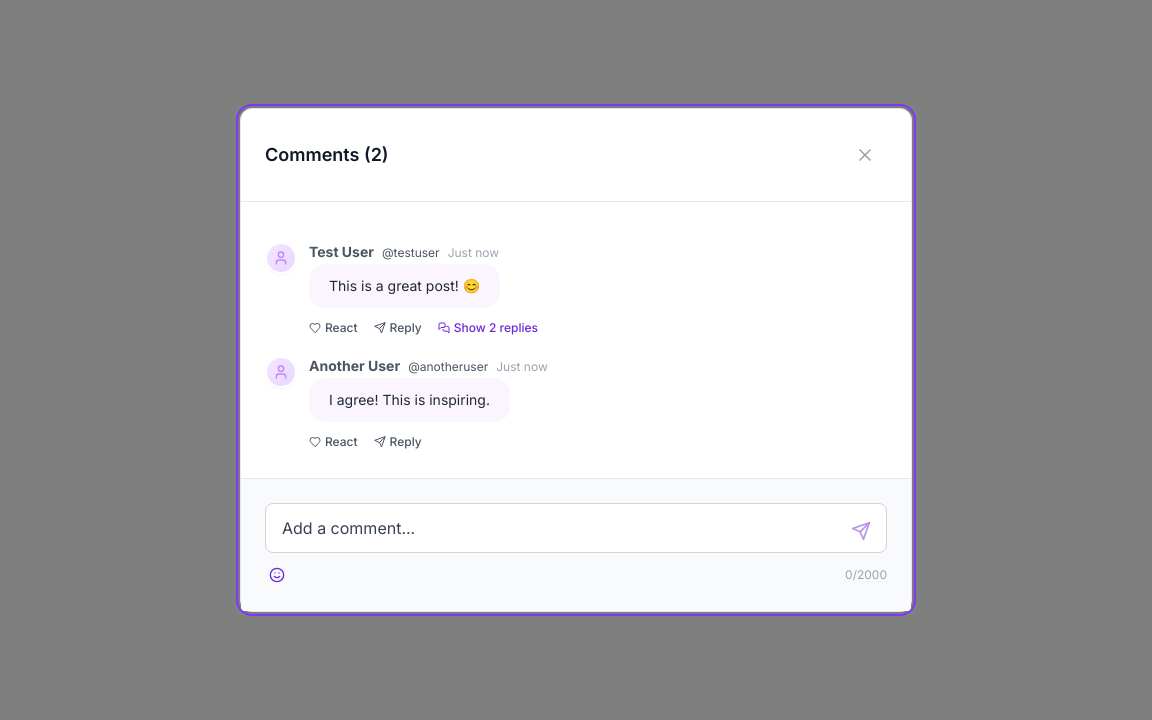
CommentsModal › uses the footer input for replies when clicking reply button
Click the button with aria-label "Reply to".
click(398, 328)  # box [374,320,422,336]
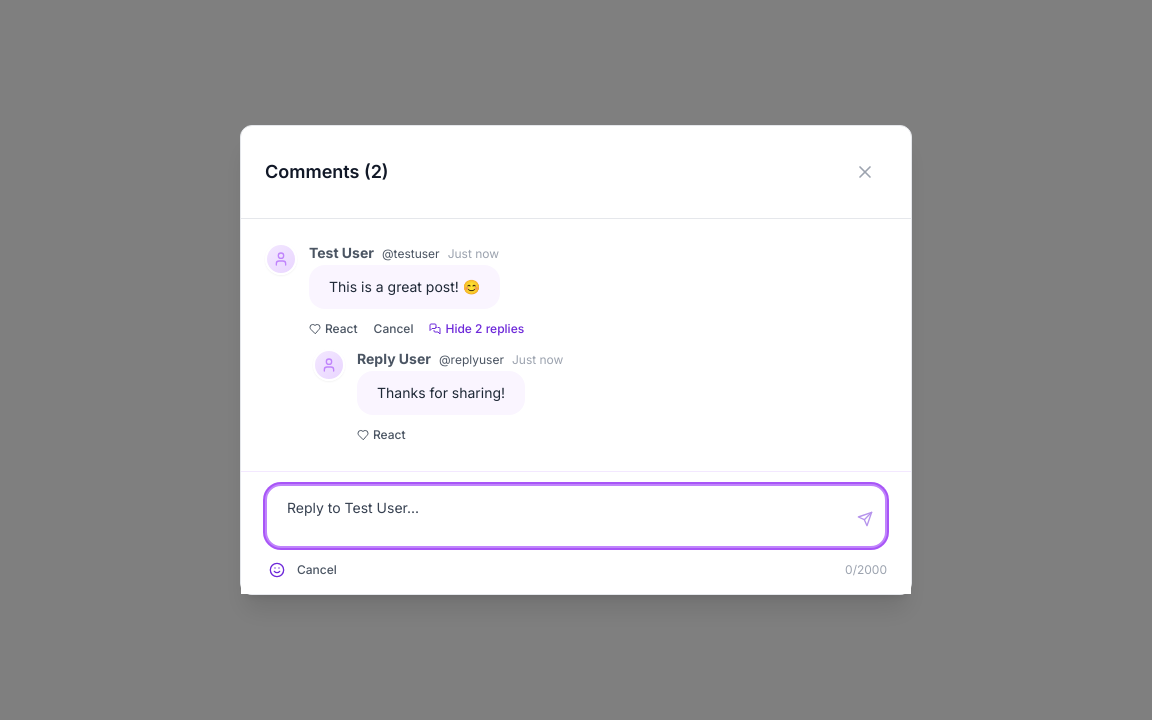
Expected: the number of text boxes with placeholder "Reply to Test User..." is 1, [265,484,887,548]
Expected: the text box with placeholder "Reply to Test User..." is shown, [265,484,887,548]
